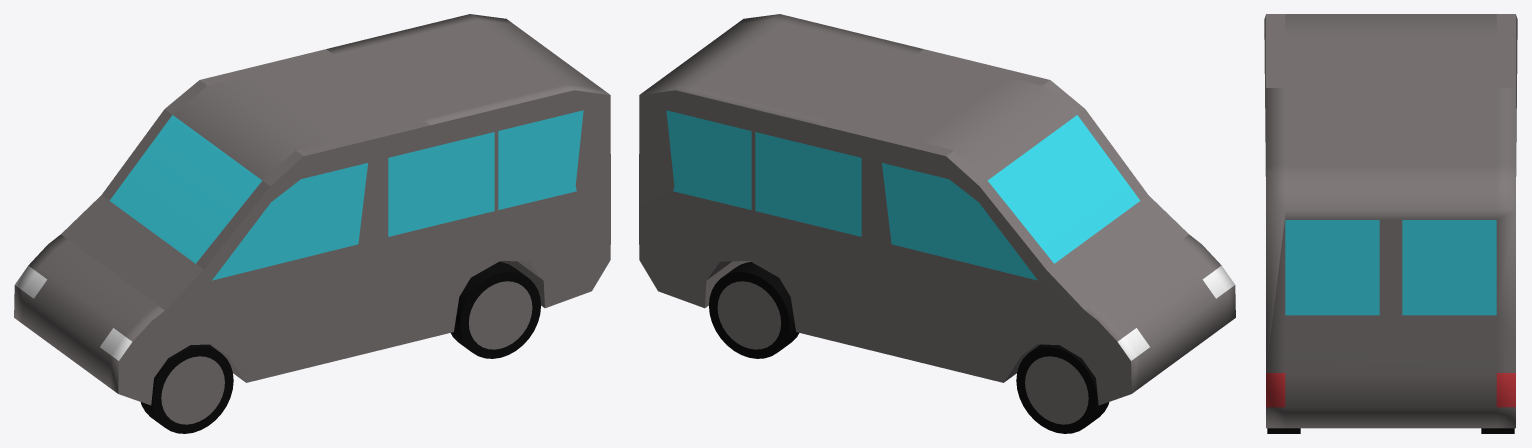
File: car3_fbx.fbx
The picture shows the model from 3 angles, left to right: view 1: azimuth 30°, elevation 25°; view 2: azimuth 150°, elevation 25°; view 3: azimuth 270°, elevation 25°; orthographic projection. The views are drawn at different scales.
Parts seen in each view (by area): view 1: Cube; view 2: Cube; view 3: Cube.
Boxes of the visible parts, x1=… form: Cube: x1=14, y1=14, x2=610, y2=433; Cube: x1=639, y1=14, x2=1235, y2=433; Cube: x1=1264, y1=14, x2=1517, y2=433.
Size of the model in its own units: 382 by 185 by 142.
